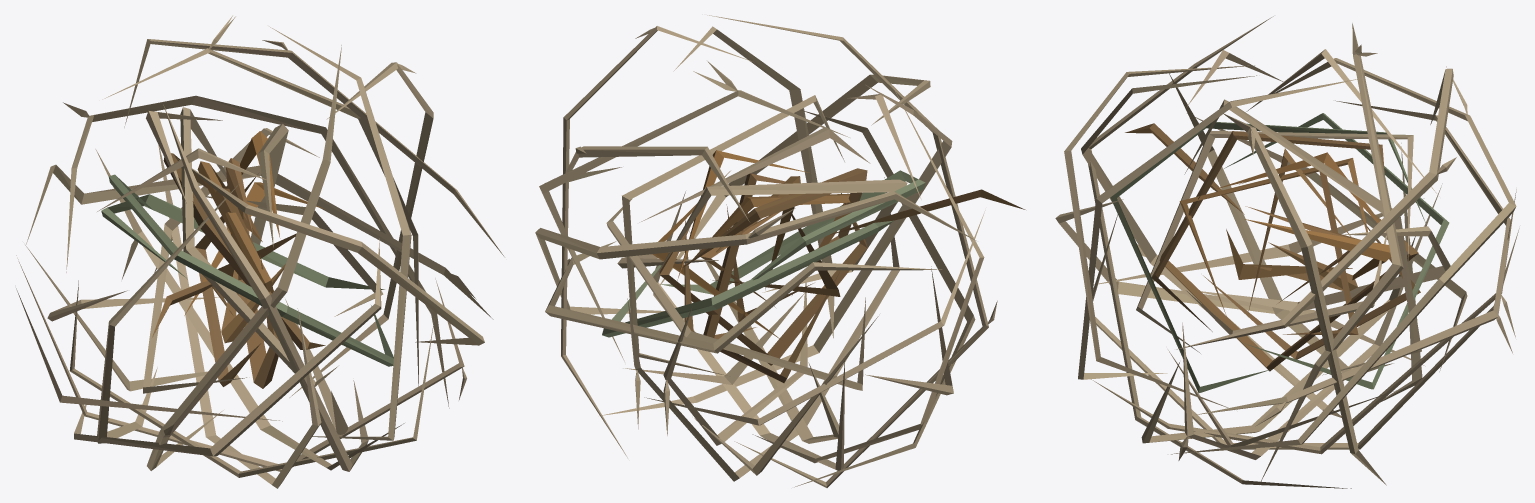
Rendered from tumbleweed-2caa1a.glb.
The picture shows the model from 3 angles, left to right: view 1: azimuth 30°, elevation 25°; view 2: azimuth 150°, elevation 25°; view 3: azimuth 270°, elevation 25°; orthographic projection.
Visible parts, largest first — view 1: tumbleweed-ball; view 2: tumbleweed-ball; view 3: tumbleweed-ball.
Part boxes in pixels (left/top/right/bottom): tumbleweed-ball: left=16, top=15, right=504, bottom=488; tumbleweed-ball: left=535, top=15, right=1025, bottom=487; tumbleweed-ball: left=1055, top=16, right=1519, bottom=488.
Bounding box in the file's own units: 0.5656 × 0.5466 × 0.5498.
